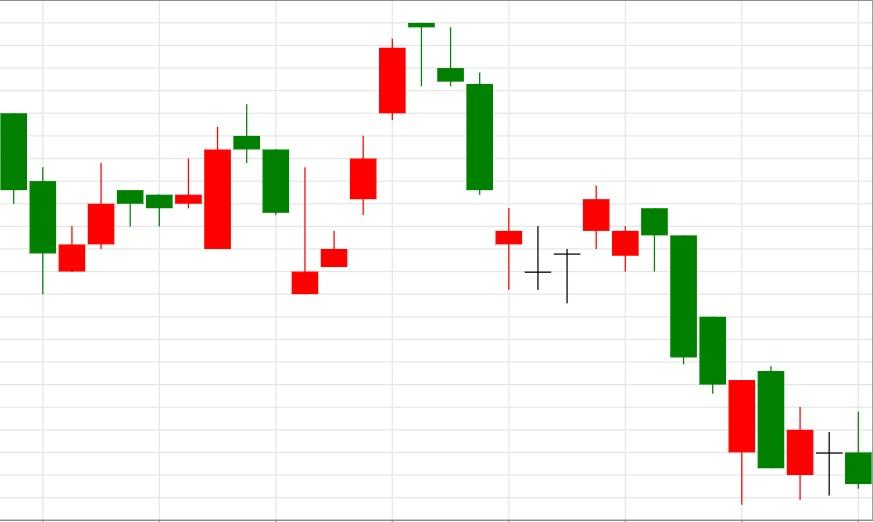inverse_hammer_rise: (232, 104, 319, 294)
three_white_soldiers_rise: (232, 104, 378, 295)
